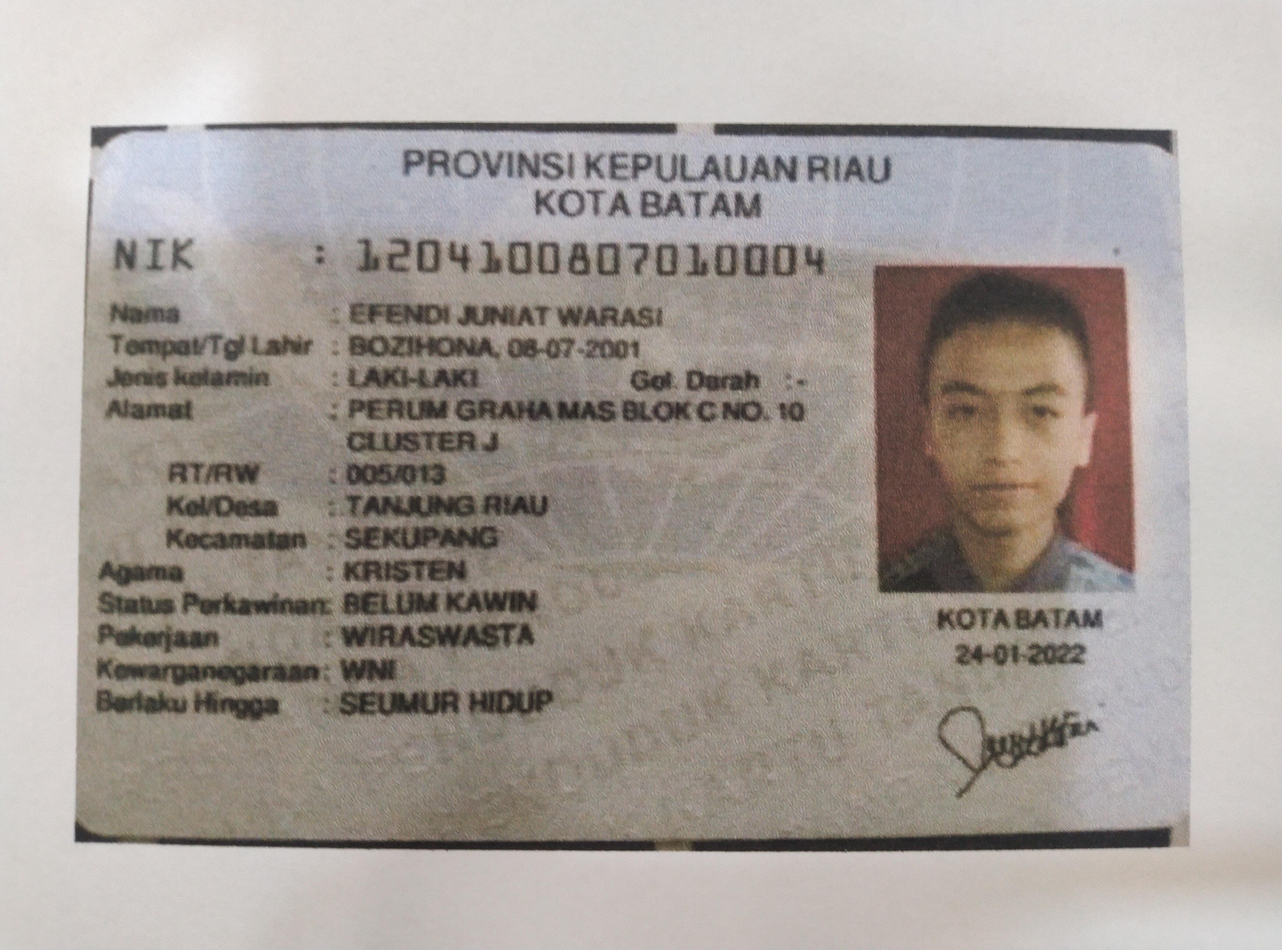ID-card: (83, 130, 1184, 824)
